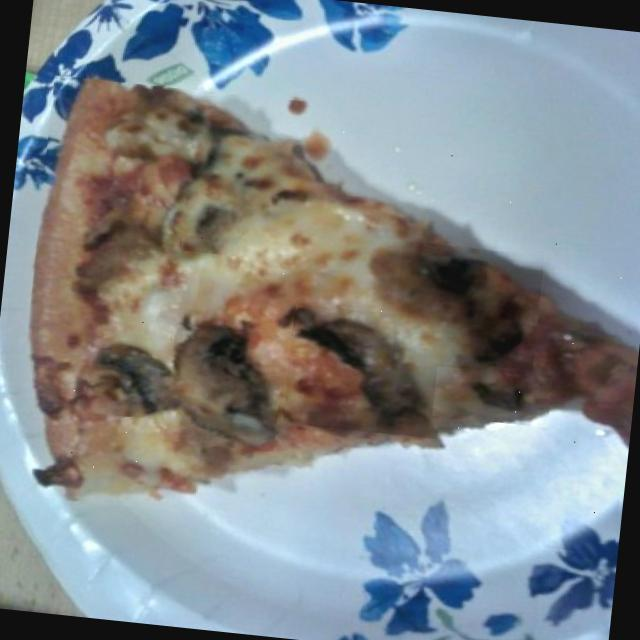mushrooms: (282, 304, 448, 438), (390, 242, 542, 372), (160, 325, 284, 452), (83, 332, 184, 422), (431, 367, 551, 428), (180, 189, 243, 256)
pizza: (30, 79, 632, 499)
